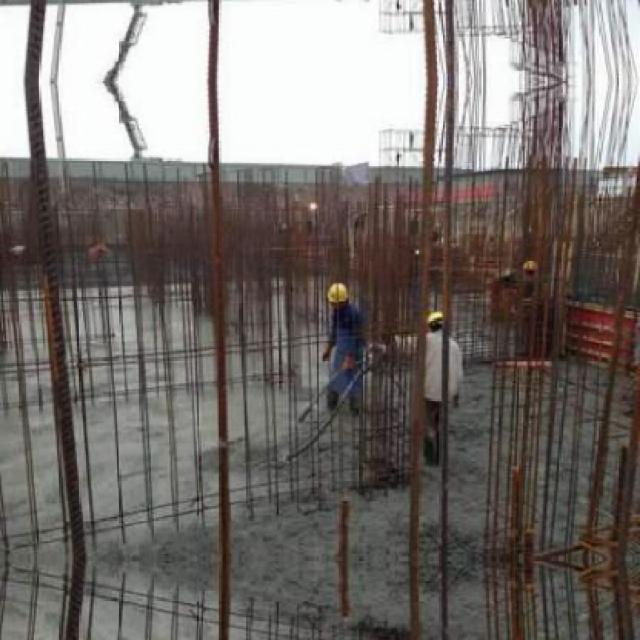helmet: (323, 278, 351, 310), (423, 305, 451, 329), (523, 256, 543, 278)
